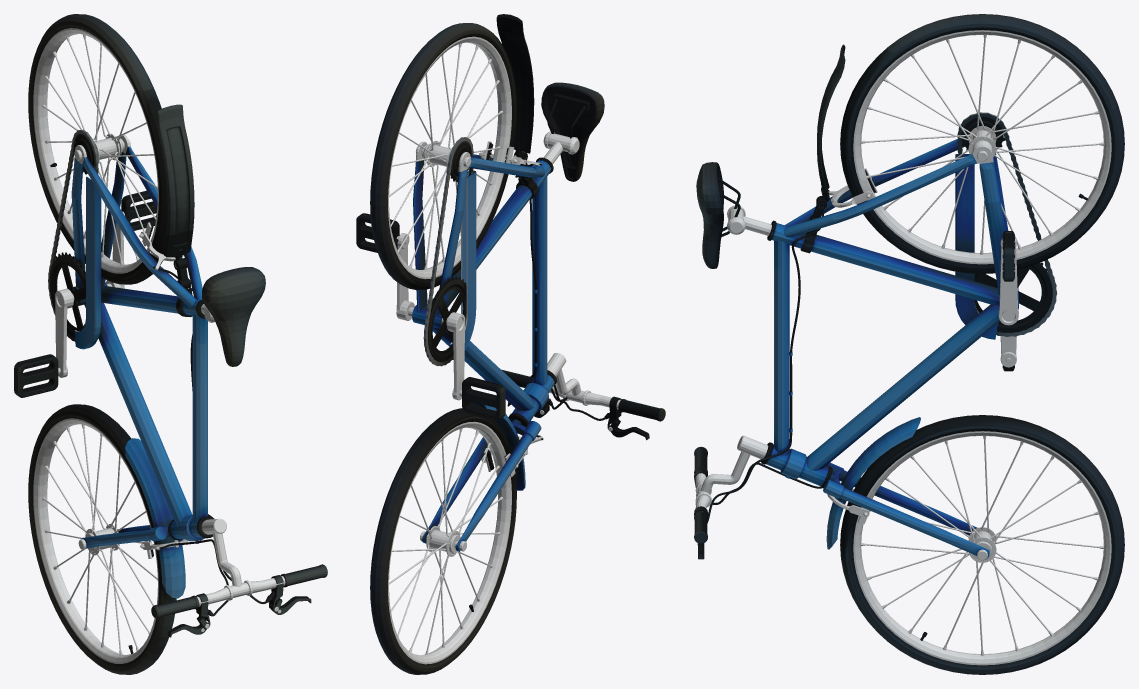
Rendered from Bicicletta.obj.
3 views of the same model, side by side, from view 1: azimuth 30°, elevation 25°; view 2: azimuth 150°, elevation 25°; view 3: azimuth 270°, elevation 25° (orthographic). The views are drawn at different scales.
Visible parts, largest first — view 1: Object.1; view 2: Object.1; view 3: Object.1.
Boxes of the visible parts, left/top/right/bottom form: Object.1: left=14, top=14, right=327, bottom=674; Object.1: left=356, top=14, right=665, bottom=674; Object.1: left=694, top=14, right=1124, bottom=674.
Bounding box in the file's own units: 145 × 521 × 309.
1 material, 1 textured.
